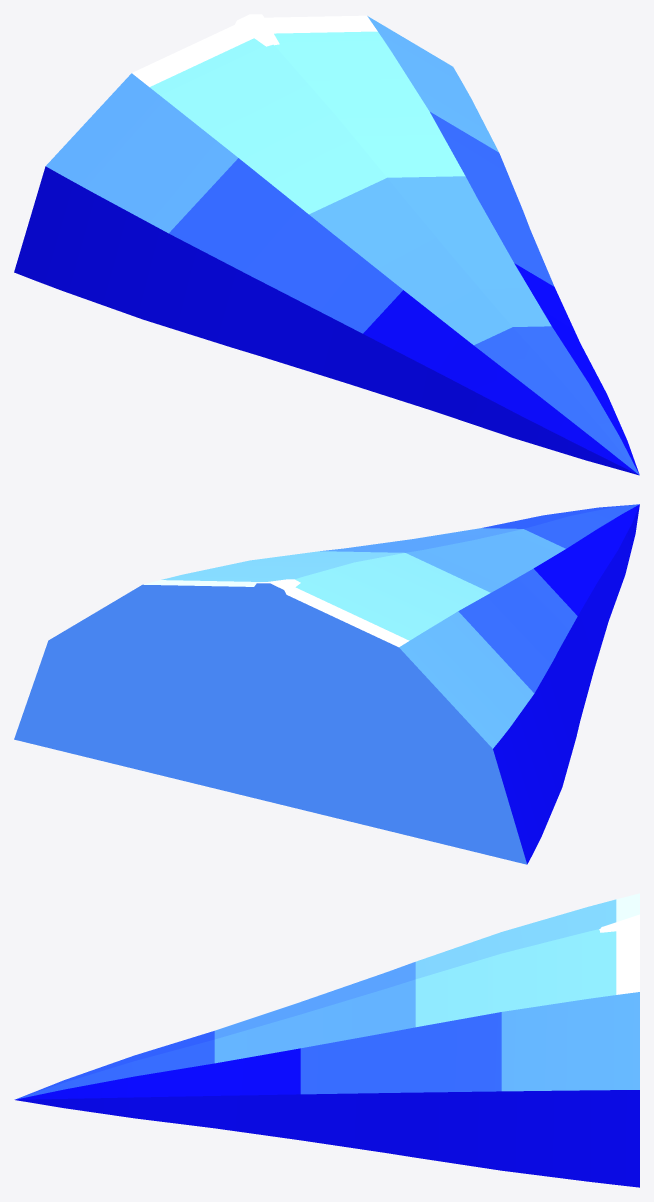
The model's file is shot_frost_46.glb.
3 renders of one model, top to bottom at view 1: azimuth 30°, elevation 25°; view 2: azimuth 150°, elevation 25°; view 3: azimuth 270°, elevation 25°, orthographic. The views are drawn at different scales.
Parts seen in each view (by area): view 1: shot_frost_46_ice_tail, shot_frost_46_core_tail; view 2: shot_frost_46_ice_tail, shot_frost_46_core_tail; view 3: shot_frost_46_ice_tail, shot_frost_46_core_tail.
Part boxes in pixels (bbox=[...]): shot_frost_46_ice_tail: bbox=[14, 15, 639, 475]; shot_frost_46_core_tail: bbox=[235, 14, 279, 46]; shot_frost_46_ice_tail: bbox=[14, 504, 639, 864]; shot_frost_46_core_tail: bbox=[251, 579, 300, 600]; shot_frost_46_ice_tail: bbox=[14, 893, 639, 1187]; shot_frost_46_core_tail: bbox=[599, 914, 639, 932].
Bounding box in the file's own units: 8.2 × 3.34 × 11.
